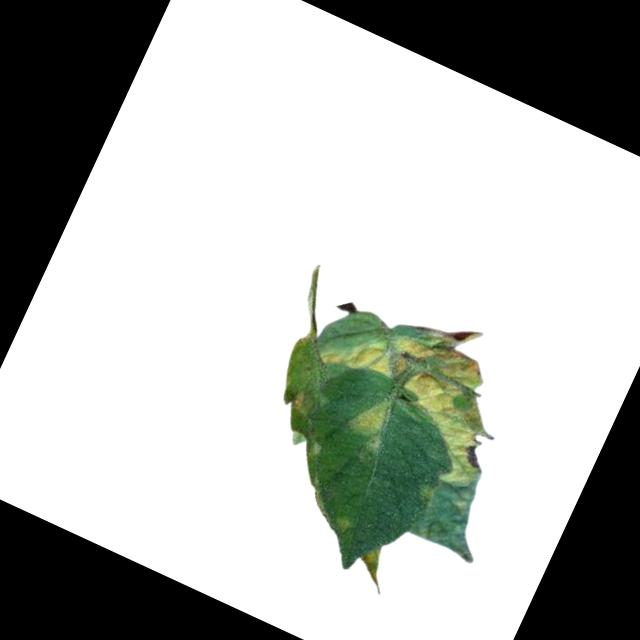Leaf_Mold: (374, 310, 534, 496), (317, 301, 436, 401), (339, 388, 400, 458), (346, 541, 403, 601), (283, 383, 316, 419)
